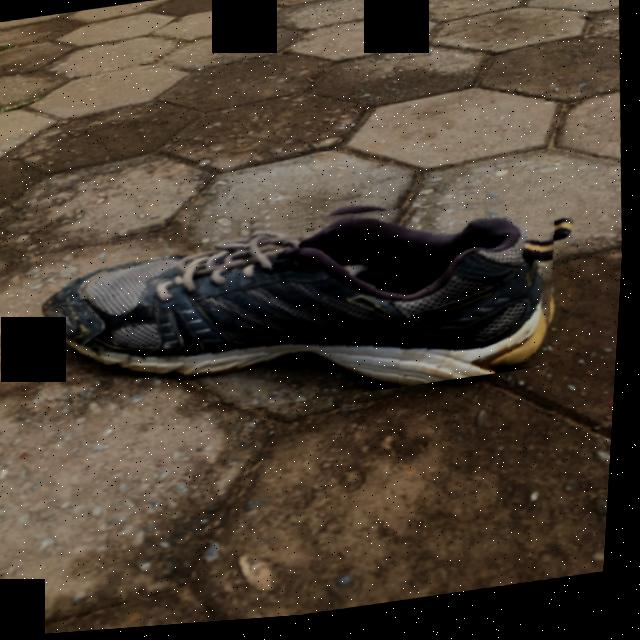shoe: (35, 180, 572, 440)
